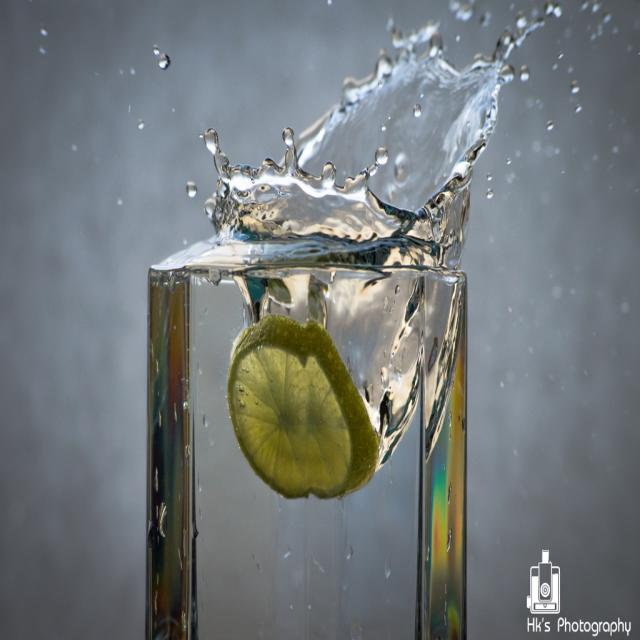Lemon: (232, 314, 372, 500)
